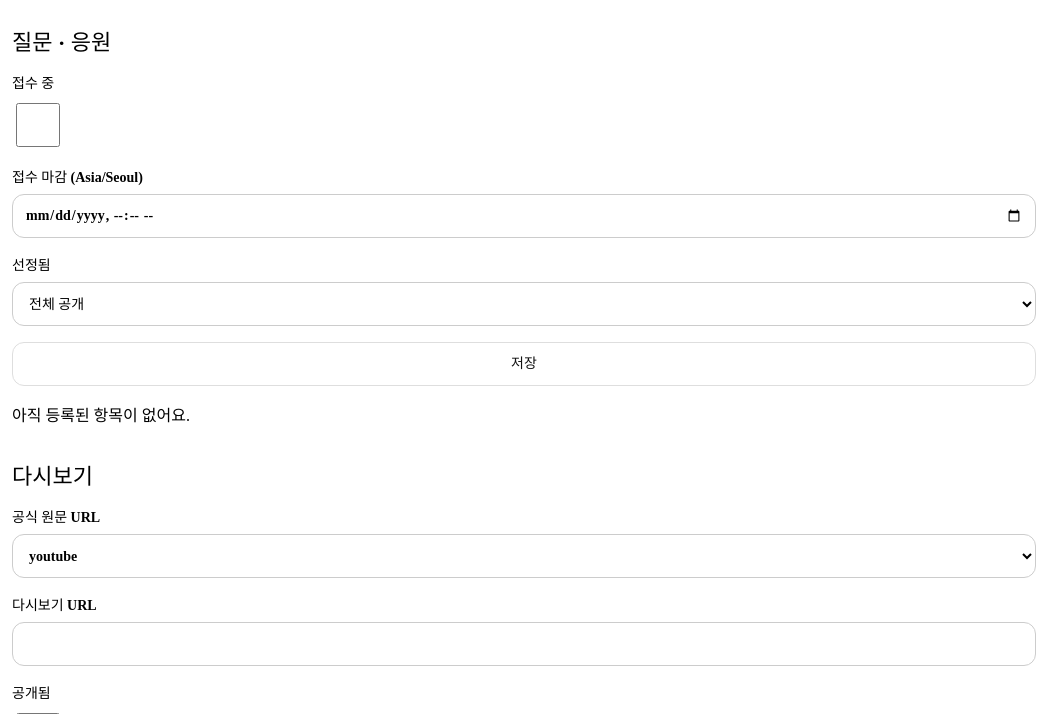
requires and explains the deadline only while LIVE submissions are accepting
Click the checkbox labelled "접수 중": (38, 125) [16,103,60,147]
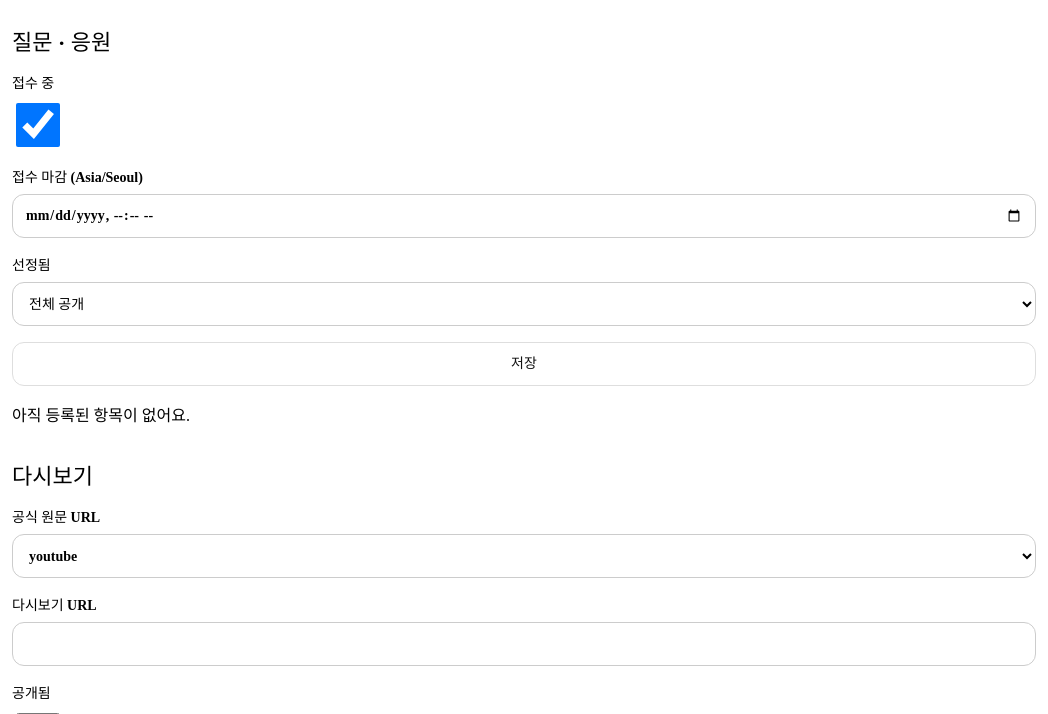
Click the button "저장": (524, 364) [12,342,1036,386]
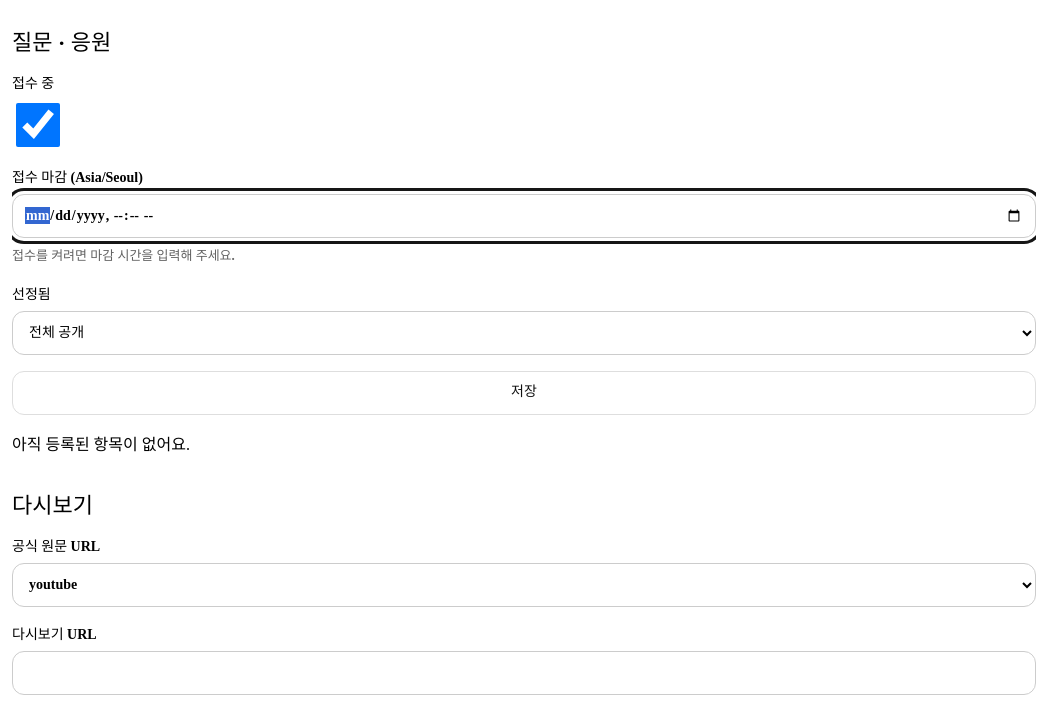
Expected: the text "접수를 켜려면 마감 시간을 입력해 주세요." is shown, [12,248,235,263]
